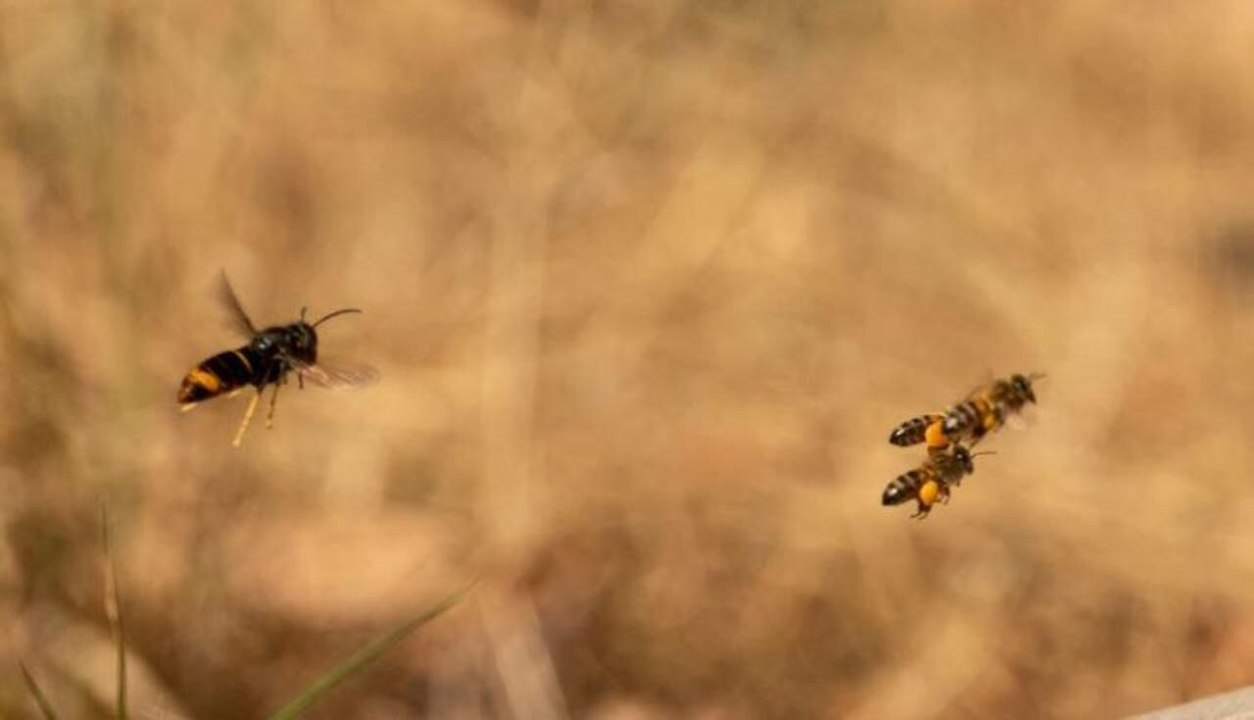bee: (884, 447, 989, 524), (944, 368, 1043, 443), (886, 400, 984, 453)
hornet: (165, 283, 379, 431)
